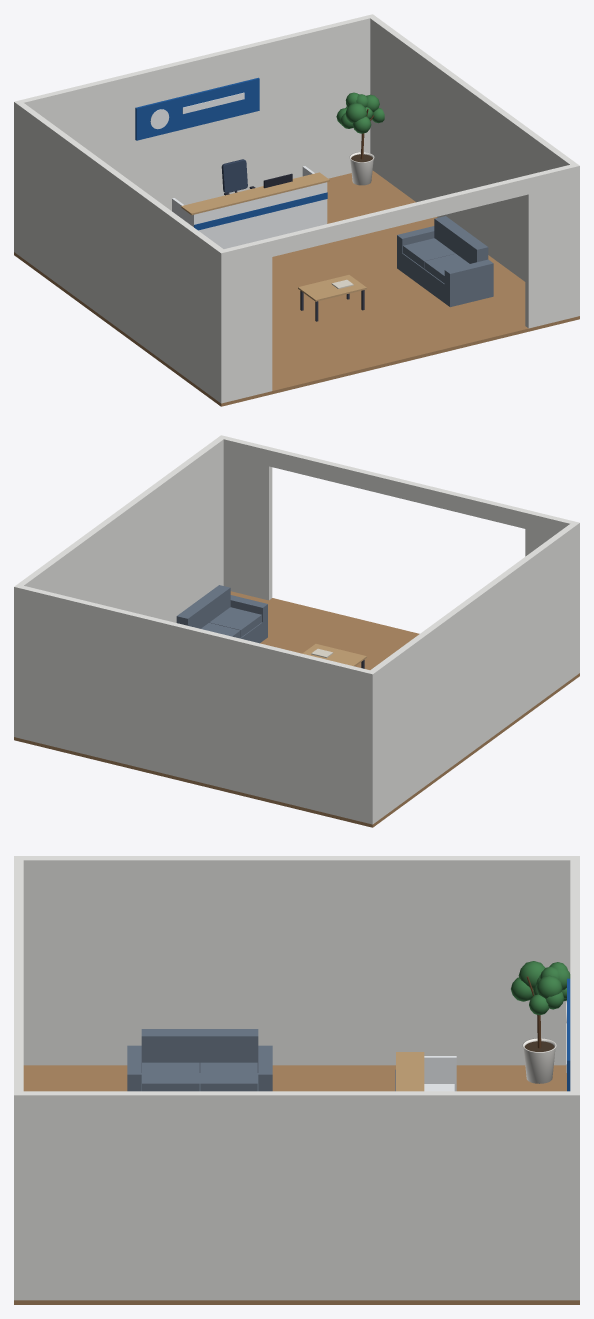
The picture shows the model from 3 angles, top to bottom: view 1: azimuth 30°, elevation 25°; view 2: azimuth 150°, elevation 25°; view 3: azimuth 270°, elevation 25°; orthographic projection. The views are drawn at different scales.
Visible parts, largest first — view 1: office_wall, wood_floor, sofa_fabric, white, airline_blue, oak, leaf, chair_fabric, ceramic_white; view 2: office_wall, wood_floor, sofa_fabric, oak; view 3: office_wall, wood_floor, sofa_fabric, leaf, white, oak, ceramic_white.
Part boxes in pixels (bbox=[...]): office_wall: bbox=[14, 14, 579, 403]; wood_floor: bbox=[14, 170, 579, 406]; sofa_fabric: bbox=[397, 216, 493, 307]; white: bbox=[150, 92, 327, 248]; airline_blue: bbox=[135, 77, 327, 230]; oak: bbox=[181, 172, 366, 301]; leaf: bbox=[336, 92, 384, 133]; chair_fabric: bbox=[221, 159, 247, 192]; ceramic_white: bbox=[349, 152, 374, 185]; office_wall: bbox=[14, 435, 579, 824]; wood_floor: bbox=[14, 591, 579, 827]; sofa_fabric: bbox=[176, 585, 267, 643]; oak: bbox=[302, 644, 366, 666]; office_wall: bbox=[14, 856, 579, 1300]; wood_floor: bbox=[14, 1065, 579, 1304]; sofa_fabric: bbox=[127, 1029, 272, 1091]; leaf: bbox=[511, 961, 570, 1015]; white: bbox=[424, 1001, 566, 1091]; oak: bbox=[396, 1052, 424, 1091]; ceramic_white: bbox=[522, 1038, 556, 1083].
Size of the model in its own units: 7 by 2.86 by 7.
